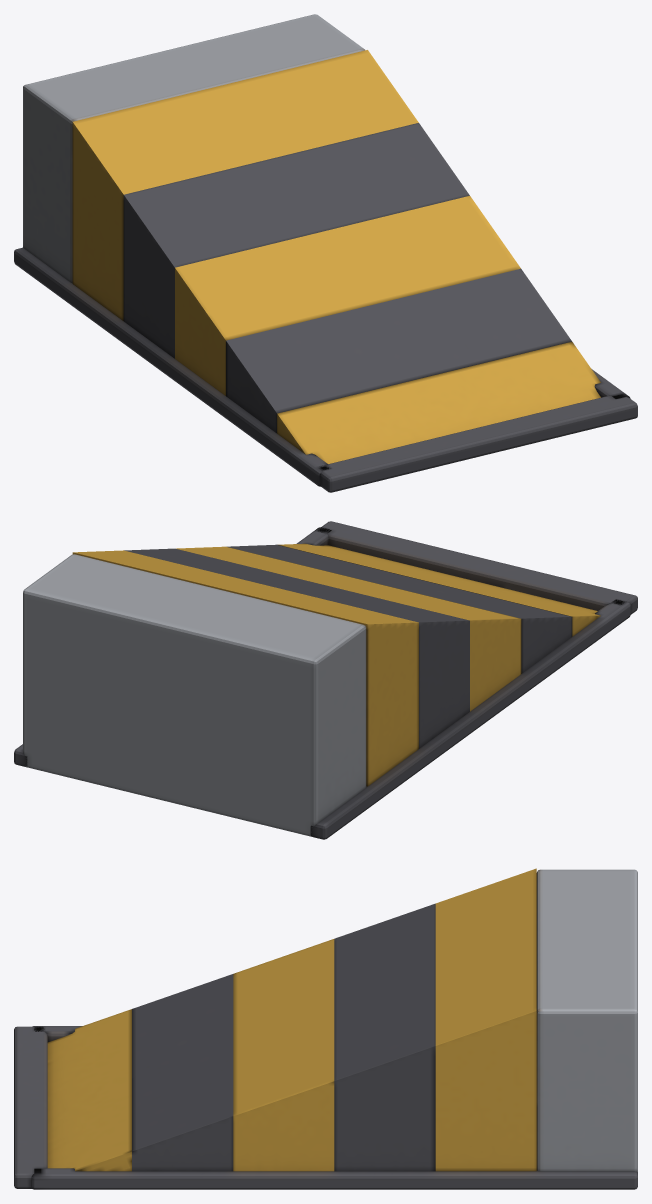
The model's file is ramp.glb.
3 renders of one model, top to bottom at view 1: azimuth 30°, elevation 25°; view 2: azimuth 150°, elevation 25°; view 3: azimuth 270°, elevation 25°, orthographic.
Parts seen in each view (by area): view 1: ramp; view 2: ramp; view 3: ramp.
Part boxes in pixels (box(x1,y1,x2,y2)): ramp: box(14, 14, 637, 492); ramp: box(14, 521, 637, 839); ramp: box(14, 868, 637, 1189).
Size of the model in its own units: 2.12 by 1.15 by 3.7.
Materials: 3 (3 with a texture image).
